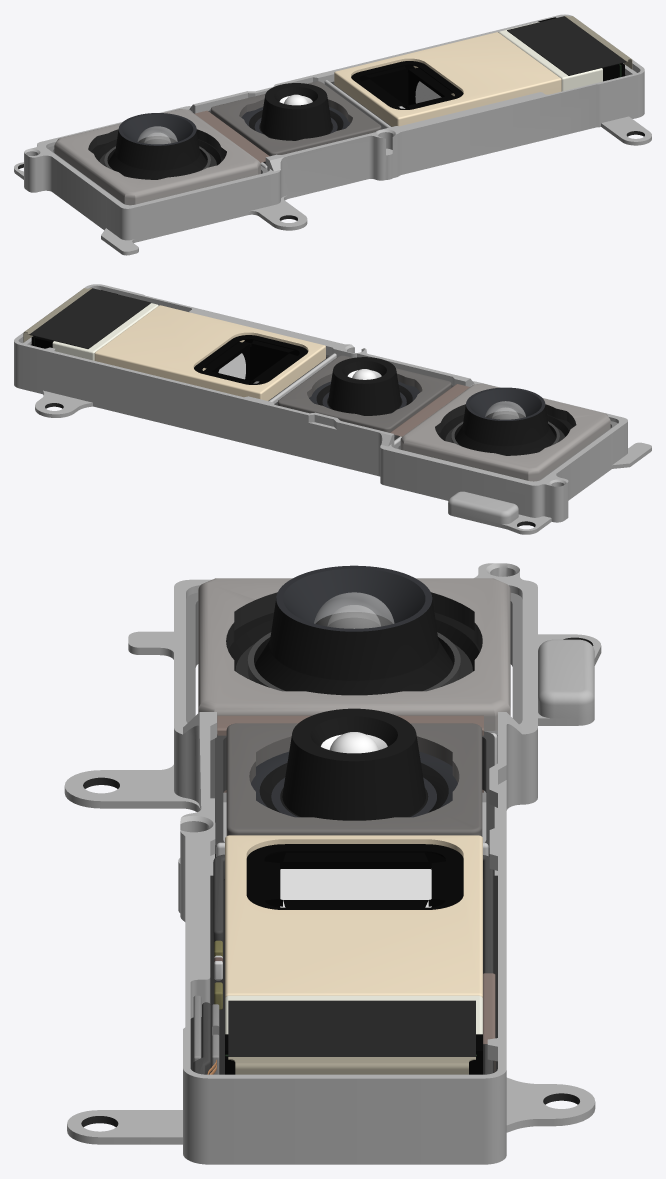
Rendered from Pixel8Pro.gltf.
3 views of the same model, one above another, from view 1: azimuth 30°, elevation 25°; view 2: azimuth 150°, elevation 25°; view 3: azimuth 270°, elevation 25° (orthographic). The views are drawn at different scales.
Parts seen in each view (by area): view 1: 立方体.064; view 2: 立方体.064; view 3: 立方体.064.
Part boxes in pixels (bbox=[...]): 立方体.064: bbox=[14, 14, 651, 255]; 立方体.064: bbox=[14, 284, 651, 534]; 立方体.064: bbox=[64, 563, 601, 1164].
Size of what is drawn, in the model's own units: 9.49 by 1.11 by 4.05.
